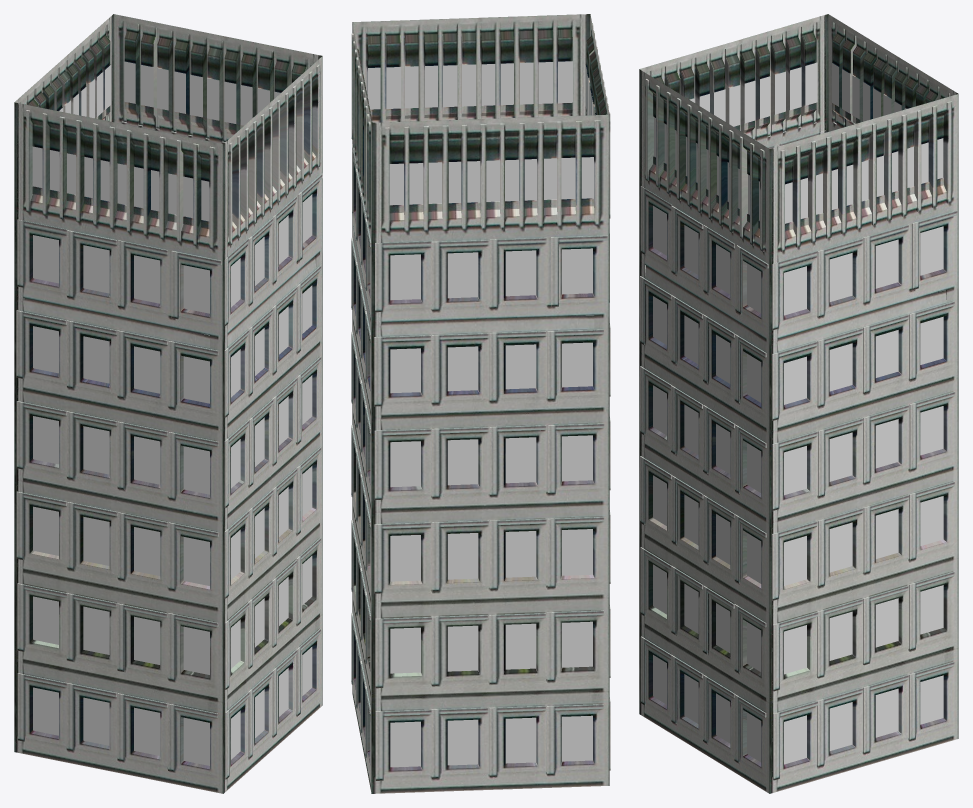
The model's file is Hus.glb.
3 views of the same model, side by side, from view 1: azimuth 30°, elevation 25°; view 2: azimuth 150°, elevation 25°; view 3: azimuth 270°, elevation 25° (orthographic). The views are drawn at different scales.
Parts seen in each view (by area): view 1: Cube.005; view 2: Cube.005; view 3: Cube.005.
Part boxes in pixels (left/top/right/bottom): Cube.005: left=14, top=14, right=322, bottom=793; Cube.005: left=351, top=14, right=610, bottom=793; Cube.005: left=639, top=14, right=958, bottom=793.
Bounding box in the file's own units: 1.24 × 2.77 × 1.24.
2 materials, 1 textured.
